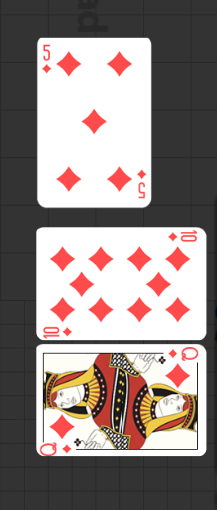10D: (166, 230, 198, 244)
9D: (41, 43, 53, 76)
QD: (36, 400, 83, 444), (157, 333, 203, 377)
